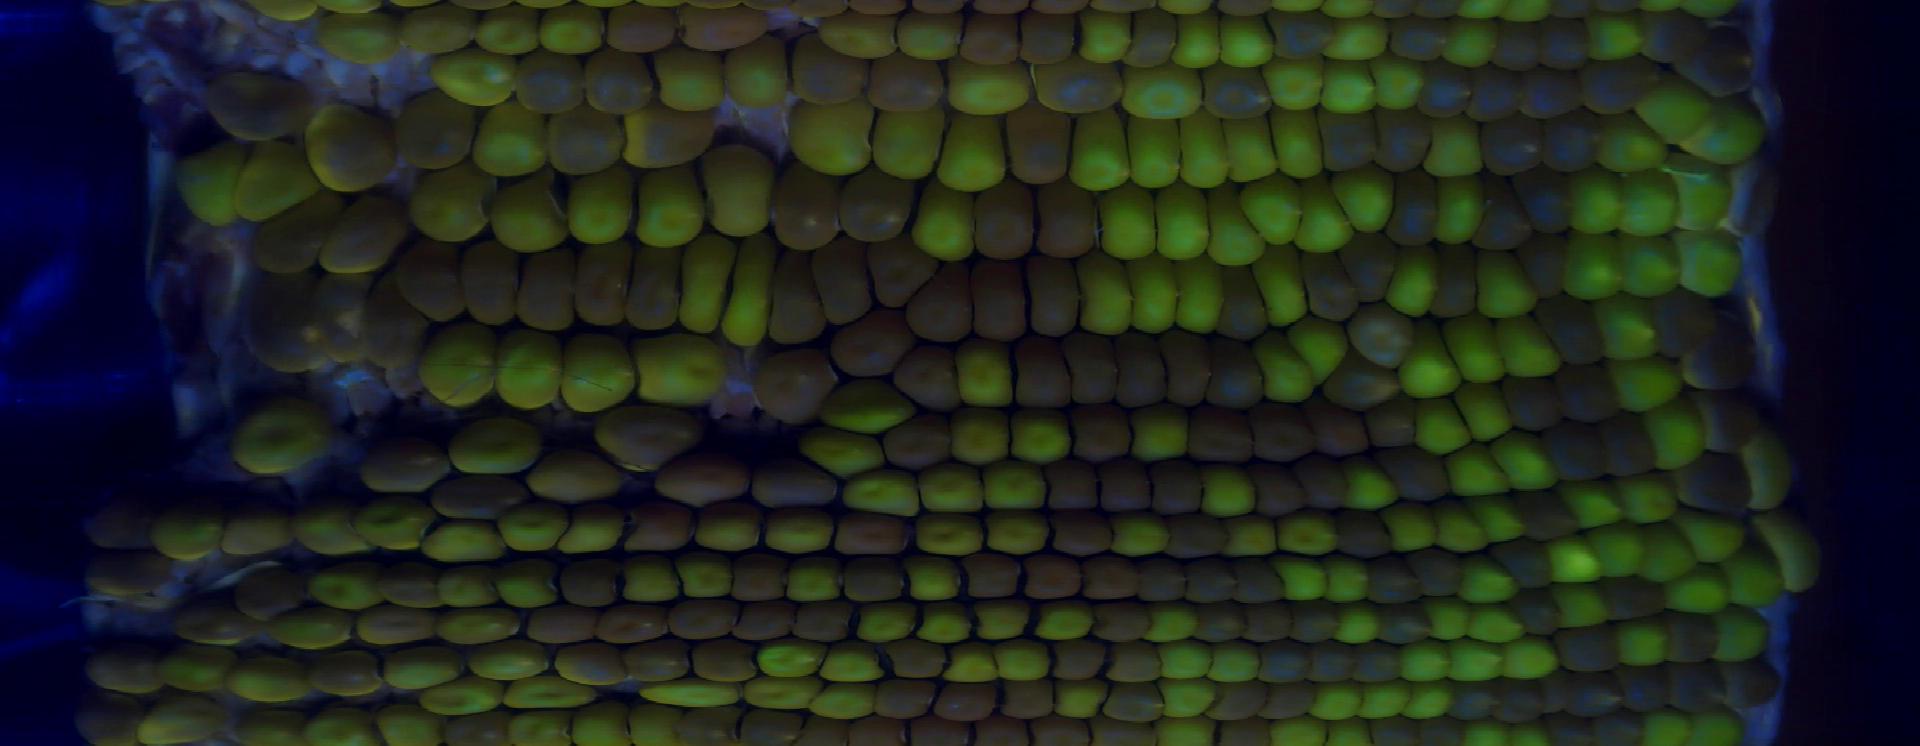fluorescent: (234, 397, 328, 472), (487, 179, 577, 256), (778, 98, 866, 171), (638, 171, 710, 254), (568, 171, 638, 255), (702, 145, 764, 236), (451, 413, 547, 469), (495, 331, 567, 405), (677, 236, 729, 339), (176, 145, 239, 229), (238, 149, 318, 214), (425, 331, 495, 405), (225, 647, 310, 708), (1253, 331, 1315, 413), (936, 110, 1002, 187), (644, 336, 729, 394), (1202, 187, 1262, 268), (1658, 163, 1735, 225), (909, 181, 970, 260), (866, 108, 936, 176), (1078, 260, 1138, 339), (650, 47, 725, 110), (816, 390, 905, 442), (1292, 175, 1351, 255), (571, 339, 637, 408), (1128, 114, 1187, 191), (1070, 110, 1128, 189), (1767, 513, 1824, 590), (415, 175, 482, 240), (1749, 424, 1795, 517), (322, 13, 405, 65), (1610, 173, 1676, 236), (353, 500, 429, 555), (1096, 189, 1155, 260), (1695, 100, 1766, 159), (1642, 78, 1704, 145), (1468, 250, 1531, 316), (429, 51, 509, 100), (953, 345, 1008, 416), (1491, 432, 1558, 491), (1155, 189, 1209, 260), (156, 500, 219, 559), (384, 643, 463, 691), (473, 110, 538, 168), (1128, 62, 1195, 118), (1269, 108, 1322, 176), (1228, 113, 1277, 187), (1562, 243, 1629, 298), (1248, 179, 1302, 246), (1180, 111, 1228, 187), (1625, 233, 1682, 295), (496, 503, 566, 555), (149, 695, 219, 746), (890, 17, 962, 66), (1428, 113, 1479, 181), (1174, 256, 1220, 333), (1682, 233, 1738, 295), (471, 7, 541, 56), (950, 71, 1024, 118), (503, 673, 593, 710), (1134, 265, 1179, 339), (1686, 514, 1753, 565), (1603, 298, 1657, 360), (1605, 360, 1686, 402), (371, 699, 443, 746), (539, 9, 609, 56), (299, 494, 353, 555), (313, 559, 380, 608), (1258, 258, 1303, 330), (915, 462, 982, 510), (984, 463, 1048, 513), (1450, 321, 1500, 385), (271, 605, 358, 642), (1340, 167, 1389, 232), (1106, 507, 1171, 556), (1496, 314, 1550, 372), (758, 510, 828, 555), (806, 434, 877, 478), (731, 51, 786, 107), (1079, 9, 1135, 62), (1449, 450, 1509, 500), (1002, 416, 1063, 465), (1402, 333, 1449, 397), (167, 643, 224, 695), (1213, 13, 1273, 62), (733, 236, 760, 345), (691, 514, 763, 555), (1200, 462, 1255, 514), (1382, 502, 1434, 559), (1635, 529, 1696, 576), (1416, 397, 1469, 450), (1644, 410, 1702, 459), (1724, 552, 1783, 600), (422, 518, 496, 556), (309, 708, 382, 746), (916, 511, 987, 550), (615, 559, 680, 601), (440, 560, 493, 611), (1573, 171, 1618, 234), (1390, 249, 1431, 314), (1151, 639, 1221, 677), (1318, 56, 1370, 107), (564, 503, 618, 552), (1667, 573, 1731, 614), (1370, 60, 1427, 107), (847, 479, 918, 516), (441, 605, 509, 643), (416, 679, 504, 708), (819, 16, 890, 51), (987, 513, 1056, 550), (1262, 65, 1321, 108), (1283, 510, 1335, 559), (1589, 530, 1642, 578), (1555, 582, 1609, 628), (1474, 497, 1529, 543), (816, 649, 879, 688), (1026, 604, 1090, 643), (1302, 318, 1340, 383), (496, 566, 550, 611), (1397, 636, 1453, 679), (1177, 11, 1216, 72), (1467, 387, 1509, 445), (1341, 458, 1387, 510), (1597, 124, 1657, 163), (1276, 556, 1324, 605), (1129, 407, 1179, 453), (950, 420, 1002, 465), (757, 639, 811, 682), (1151, 679, 1218, 713), (647, 681, 731, 708), (1434, 176, 1474, 233), (1439, 505, 1483, 556), (1561, 485, 1625, 521), (945, 643, 999, 685), (1718, 610, 1767, 655), (1471, 559, 1520, 604), (1625, 478, 1676, 521), (1335, 18, 1384, 62), (1453, 639, 1512, 676), (473, 650, 549, 679), (918, 601, 973, 639), (620, 706, 671, 746), (742, 673, 804, 706), (1586, 18, 1640, 56), (1224, 513, 1273, 555), (811, 687, 877, 718), (1689, 710, 1745, 746), (1324, 559, 1368, 604), (902, 555, 951, 595), (1160, 713, 1218, 746), (680, 559, 725, 601), (574, 708, 624, 746), (787, 560, 838, 598), (1449, 21, 1490, 66), (999, 646, 1047, 685), (1473, 604, 1521, 643), (973, 604, 1026, 639), (1360, 685, 1411, 722), (1510, 639, 1560, 676), (1332, 601, 1378, 642), (509, 710, 560, 746), (1316, 682, 1360, 723), (1428, 597, 1468, 639), (1147, 601, 1193, 639), (1621, 626, 1664, 665), (1547, 539, 1593, 575), (1642, 710, 1690, 745), (1053, 684, 1102, 717), (1408, 681, 1450, 718), (1212, 642, 1254, 677), (857, 608, 912, 633), (1325, 717, 1370, 746), (1266, 718, 1313, 746), (1464, 720, 1510, 746), (1512, 722, 1554, 746)
nonfluorescent: (213, 65, 316, 146), (312, 102, 392, 187), (596, 404, 696, 472), (328, 197, 410, 274), (397, 92, 473, 173), (310, 269, 369, 372), (767, 169, 838, 249), (909, 258, 973, 343), (516, 247, 579, 331), (855, 59, 953, 113), (620, 108, 719, 160), (225, 491, 302, 559), (460, 240, 518, 330), (227, 565, 313, 624), (87, 472, 153, 549), (973, 175, 1033, 260), (355, 440, 447, 494), (1033, 183, 1097, 260), (251, 285, 305, 376), (658, 459, 753, 510), (366, 273, 419, 363), (758, 350, 825, 420), (1344, 301, 1412, 371), (1680, 334, 1757, 392), (1687, 27, 1760, 88), (579, 53, 654, 111), (795, 49, 874, 104), (1539, 296, 1605, 363), (1210, 330, 1267, 405), (838, 169, 906, 233), (1005, 116, 1067, 187), (549, 116, 624, 173), (1026, 255, 1082, 331), (824, 236, 873, 323), (1319, 102, 1382, 168), (171, 597, 251, 649), (409, 240, 460, 321), (776, 256, 825, 341), (835, 314, 902, 375), (628, 247, 680, 327), (1038, 62, 1124, 110), (973, 258, 1025, 337), (579, 246, 628, 327), (1682, 458, 1751, 516), (676, 7, 770, 49), (529, 458, 615, 503), (1070, 336, 1119, 414), (1342, 240, 1402, 304), (616, 505, 692, 555), (1544, 423, 1613, 478), (1016, 339, 1067, 414), (263, 209, 324, 271), (902, 345, 962, 408), (87, 642, 160, 691), (874, 236, 928, 303), (1434, 243, 1479, 320), (1195, 65, 1262, 116), (1193, 405, 1254, 462), (1382, 102, 1431, 171), (958, 13, 1022, 66), (438, 478, 518, 521), (1093, 456, 1153, 511), (1269, 11, 1340, 58), (602, 597, 670, 646), (1484, 114, 1548, 165), (1167, 330, 1210, 405), (520, 58, 579, 113), (1657, 292, 1709, 353), (1586, 62, 1653, 110), (86, 556, 168, 595), (1700, 390, 1755, 447), (753, 458, 829, 500), (1716, 658, 1776, 710), (1254, 402, 1307, 462), (551, 646, 631, 685), (1558, 365, 1618, 416), (1224, 265, 1266, 337), (891, 420, 953, 469), (1367, 397, 1420, 452), (1548, 114, 1602, 169), (1518, 171, 1570, 229), (609, 4, 680, 45), (841, 513, 912, 555), (1124, 331, 1166, 402), (1502, 376, 1561, 426), (1610, 416, 1658, 478), (1468, 185, 1516, 246), (1384, 18, 1450, 62), (1044, 459, 1097, 514), (1518, 233, 1564, 296), (670, 597, 741, 637), (1667, 666, 1727, 714), (1309, 405, 1370, 452), (1245, 465, 1303, 514), (841, 563, 909, 605), (305, 653, 377, 691), (1104, 675, 1168, 718), (964, 552, 1024, 598), (555, 563, 620, 605), (1638, 13, 1700, 58), (1309, 250, 1348, 318), (1079, 555, 1141, 598), (1166, 518, 1232, 559), (1329, 367, 1395, 408), (1392, 173, 1434, 236), (373, 563, 433, 608), (1616, 661, 1667, 714), (1022, 16, 1076, 65), (686, 639, 754, 677), (1521, 69, 1580, 113), (1382, 452, 1442, 495), (358, 610, 429, 646), (1613, 581, 1671, 624), (1667, 612, 1719, 660), (1491, 21, 1544, 69), (1368, 559, 1422, 605), (441, 710, 511, 746), (874, 677, 942, 714), (741, 706, 806, 744), (80, 697, 132, 744), (528, 608, 599, 642), (939, 679, 1003, 717), (1153, 462, 1202, 511), (631, 639, 683, 685), (887, 637, 945, 677), (1520, 497, 1580, 537), (1024, 556, 1080, 598), (1071, 408, 1122, 454), (1467, 69, 1518, 114), (676, 710, 740, 746), (1558, 631, 1621, 666), (1184, 559, 1237, 601), (1097, 646, 1160, 681), (1302, 462, 1344, 513), (1291, 597, 1338, 642), (1054, 510, 1109, 549), (1135, 7, 1174, 62), (1425, 65, 1467, 116), (1544, 24, 1592, 69), (800, 601, 850, 643), (1100, 601, 1153, 639), (1447, 681, 1496, 723), (741, 600, 796, 637), (1260, 643, 1313, 681), (1237, 560, 1284, 601), (1093, 717, 1161, 746), (1206, 682, 1264, 717), (1311, 643, 1360, 682), (1262, 681, 1316, 717), (1537, 679, 1587, 717), (1547, 713, 1604, 746), (1000, 684, 1058, 717), (1496, 539, 1540, 582), (1596, 710, 1648, 746), (1195, 604, 1248, 639), (1048, 642, 1102, 676), (737, 559, 780, 601), (969, 717, 1031, 746), (1337, 513, 1389, 549), (851, 714, 907, 746), (1141, 559, 1187, 598), (909, 717, 967, 746), (1420, 559, 1464, 598), (1360, 643, 1402, 682), (1587, 671, 1622, 717), (1496, 685, 1539, 722), (1250, 605, 1291, 642), (1419, 717, 1469, 746), (802, 713, 846, 746), (1215, 720, 1271, 746), (1371, 717, 1419, 746), (1031, 718, 1093, 740), (1387, 612, 1438, 639), (1520, 598, 1558, 630)
